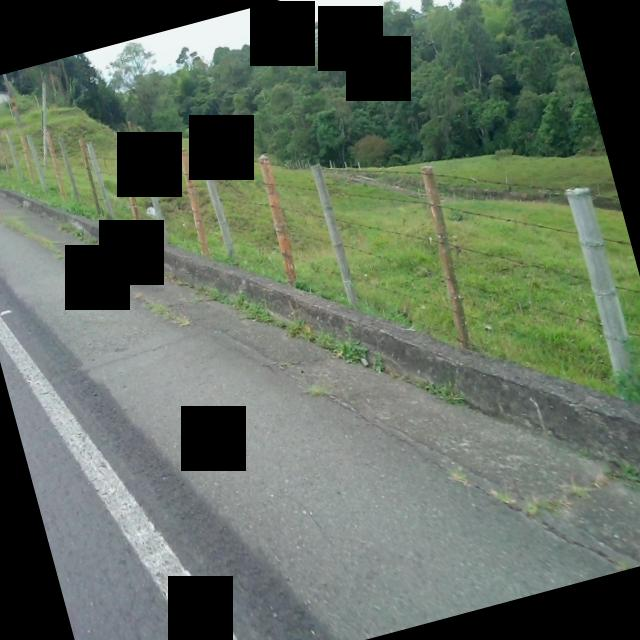DITCH: (0, 3, 640, 640), (0, 6, 640, 640)
